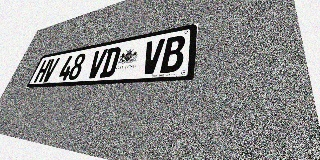4: (57, 54, 77, 81)
8: (67, 52, 87, 80)
B: (160, 34, 186, 73)
D: (99, 46, 122, 78)
H: (33, 59, 52, 83)
V: (140, 38, 165, 75), (86, 49, 108, 79), (41, 57, 60, 82)
